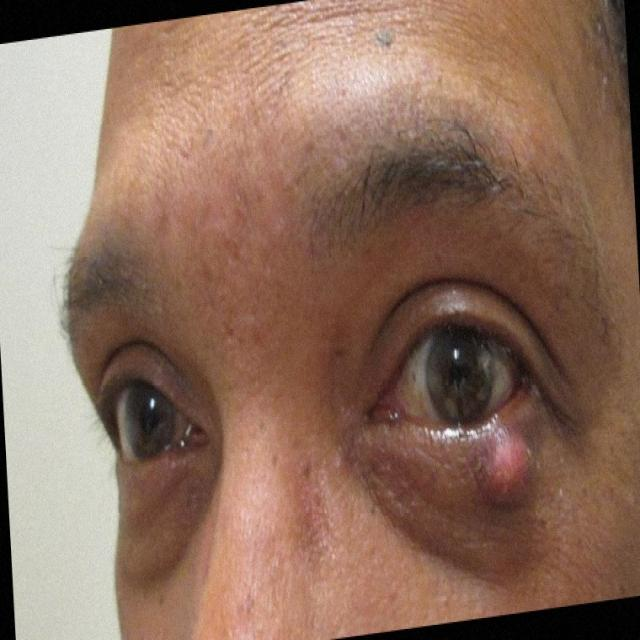Chalazion: (359, 266, 581, 568)
Healthy-Eye: (86, 339, 215, 521)
